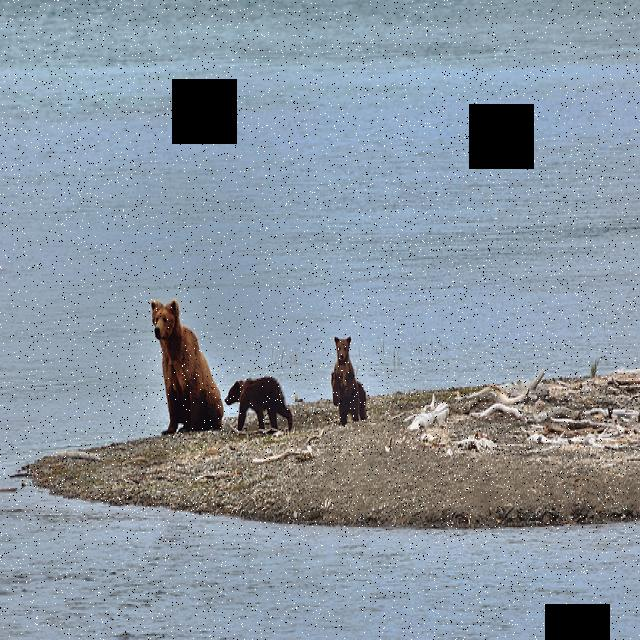Bear: (148, 296, 224, 432)
